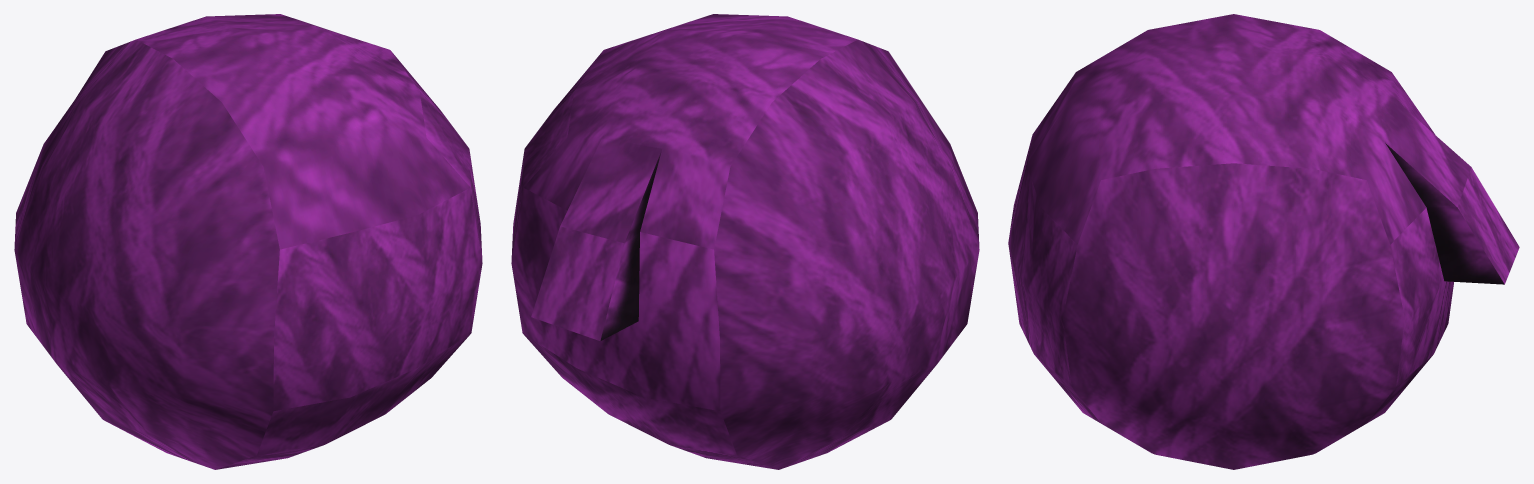
File: yarnball.fbx
The picture shows the model from 3 angles, left to right: view 1: azimuth 30°, elevation 25°; view 2: azimuth 150°, elevation 25°; view 3: azimuth 270°, elevation 25°; orthographic projection.
Visible parts, largest first — view 1: pCube34; view 2: pCube34; view 3: pCube34.
Boxes of the visible parts, bbox=[...] form: pCube34: bbox=[14, 14, 482, 469]; pCube34: bbox=[511, 14, 979, 469]; pCube34: bbox=[1008, 14, 1519, 469].
Size of the model in its own units: 0.9195 by 0.8785 by 1.01.
1 material, 1 textured.
